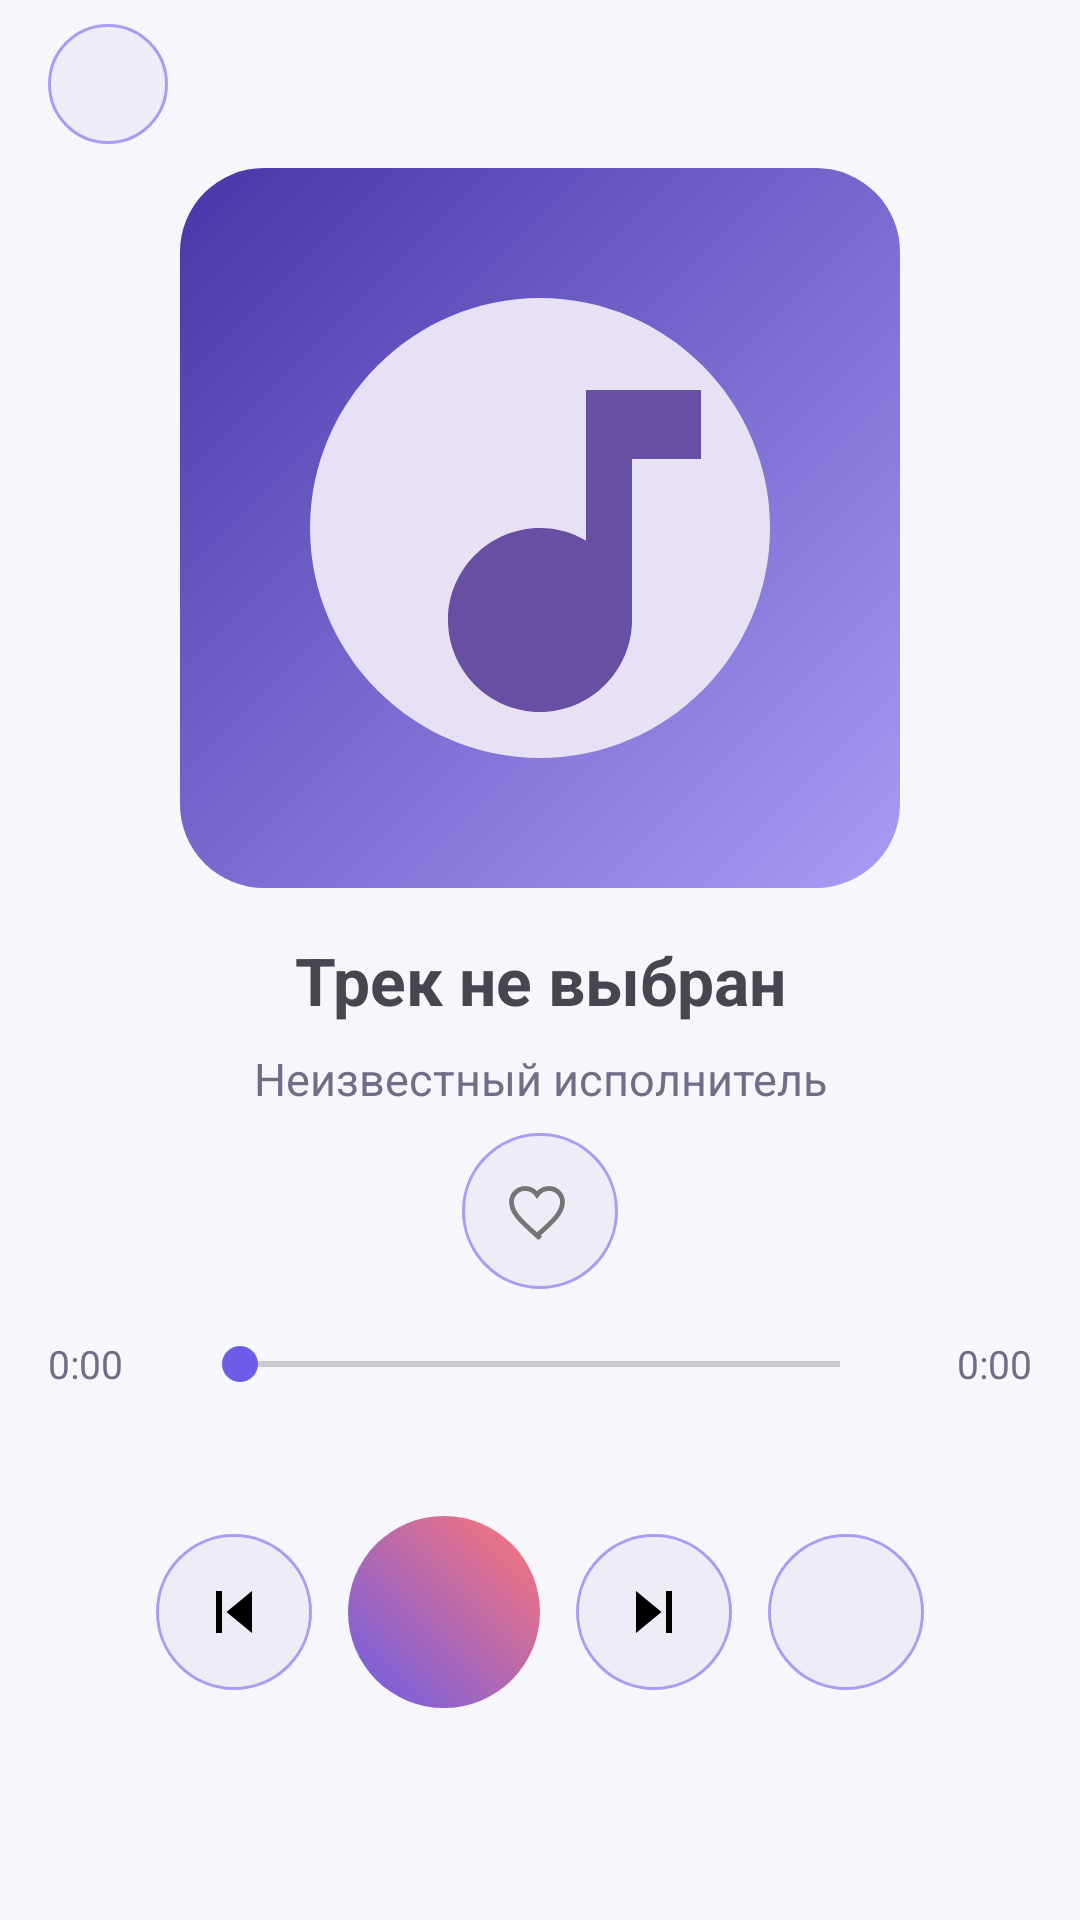

Point at icon controls on the screen. Image size 1080*1920, points as [x,y].
Поставить лайк: [540,1211]
Предыдущий: [234,1612]
Следующий: [654,1612]
